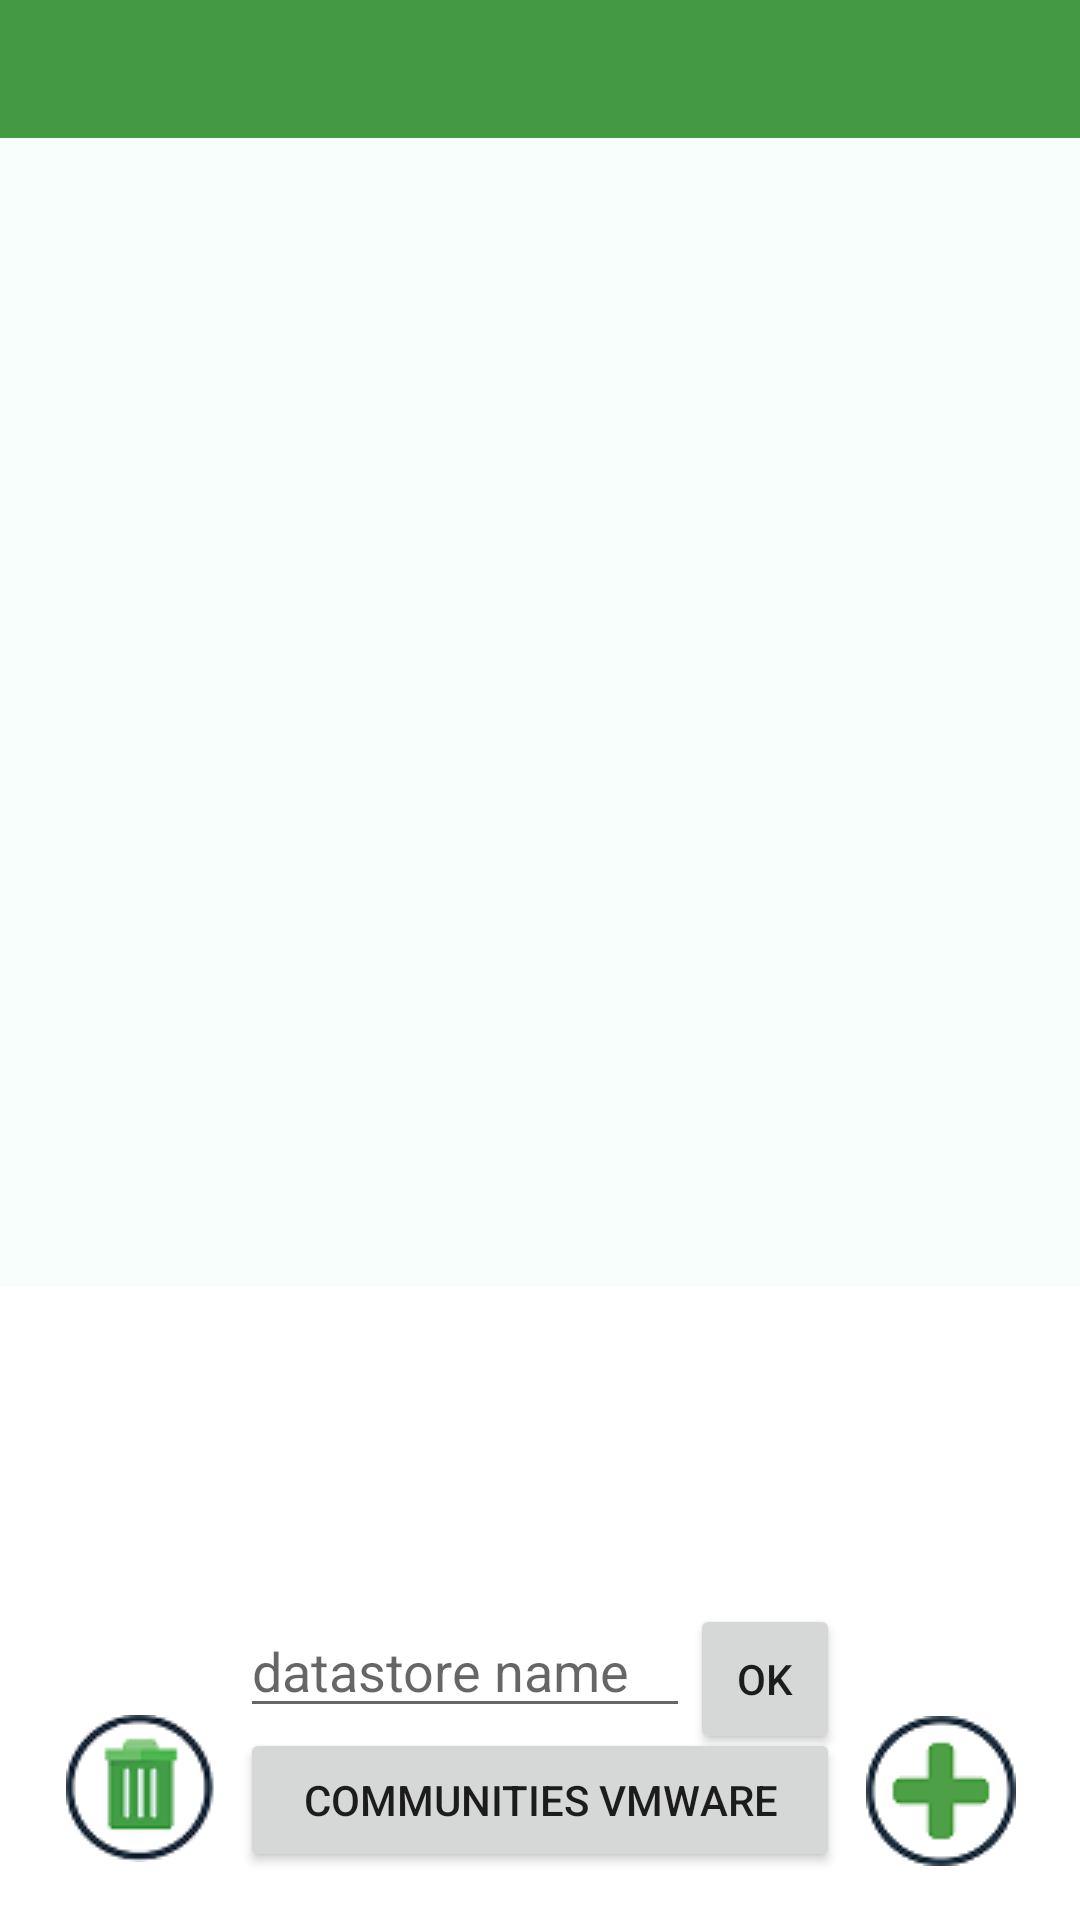

Icon click points for this 1080px x 1920px phone screenshot, format (x,y):
deletelol: (140,1788)
plusultra: (941,1791)
